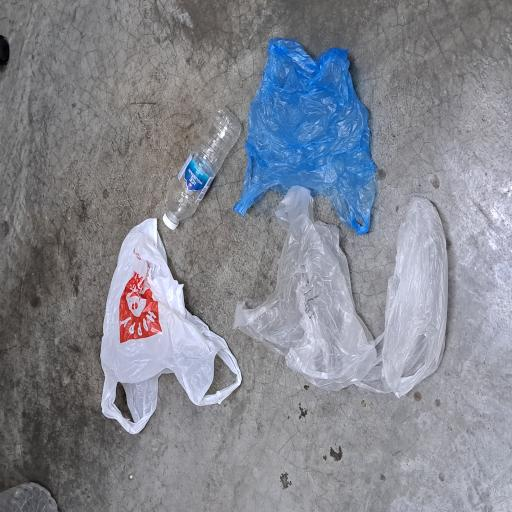plastic bag: (58, 134, 220, 325), (90, 312, 245, 504), (208, 311, 356, 502)
plastic bottle: (218, 223, 304, 322), (0, 0, 25, 74)
plastic bottle cap: (212, 217, 225, 238)
